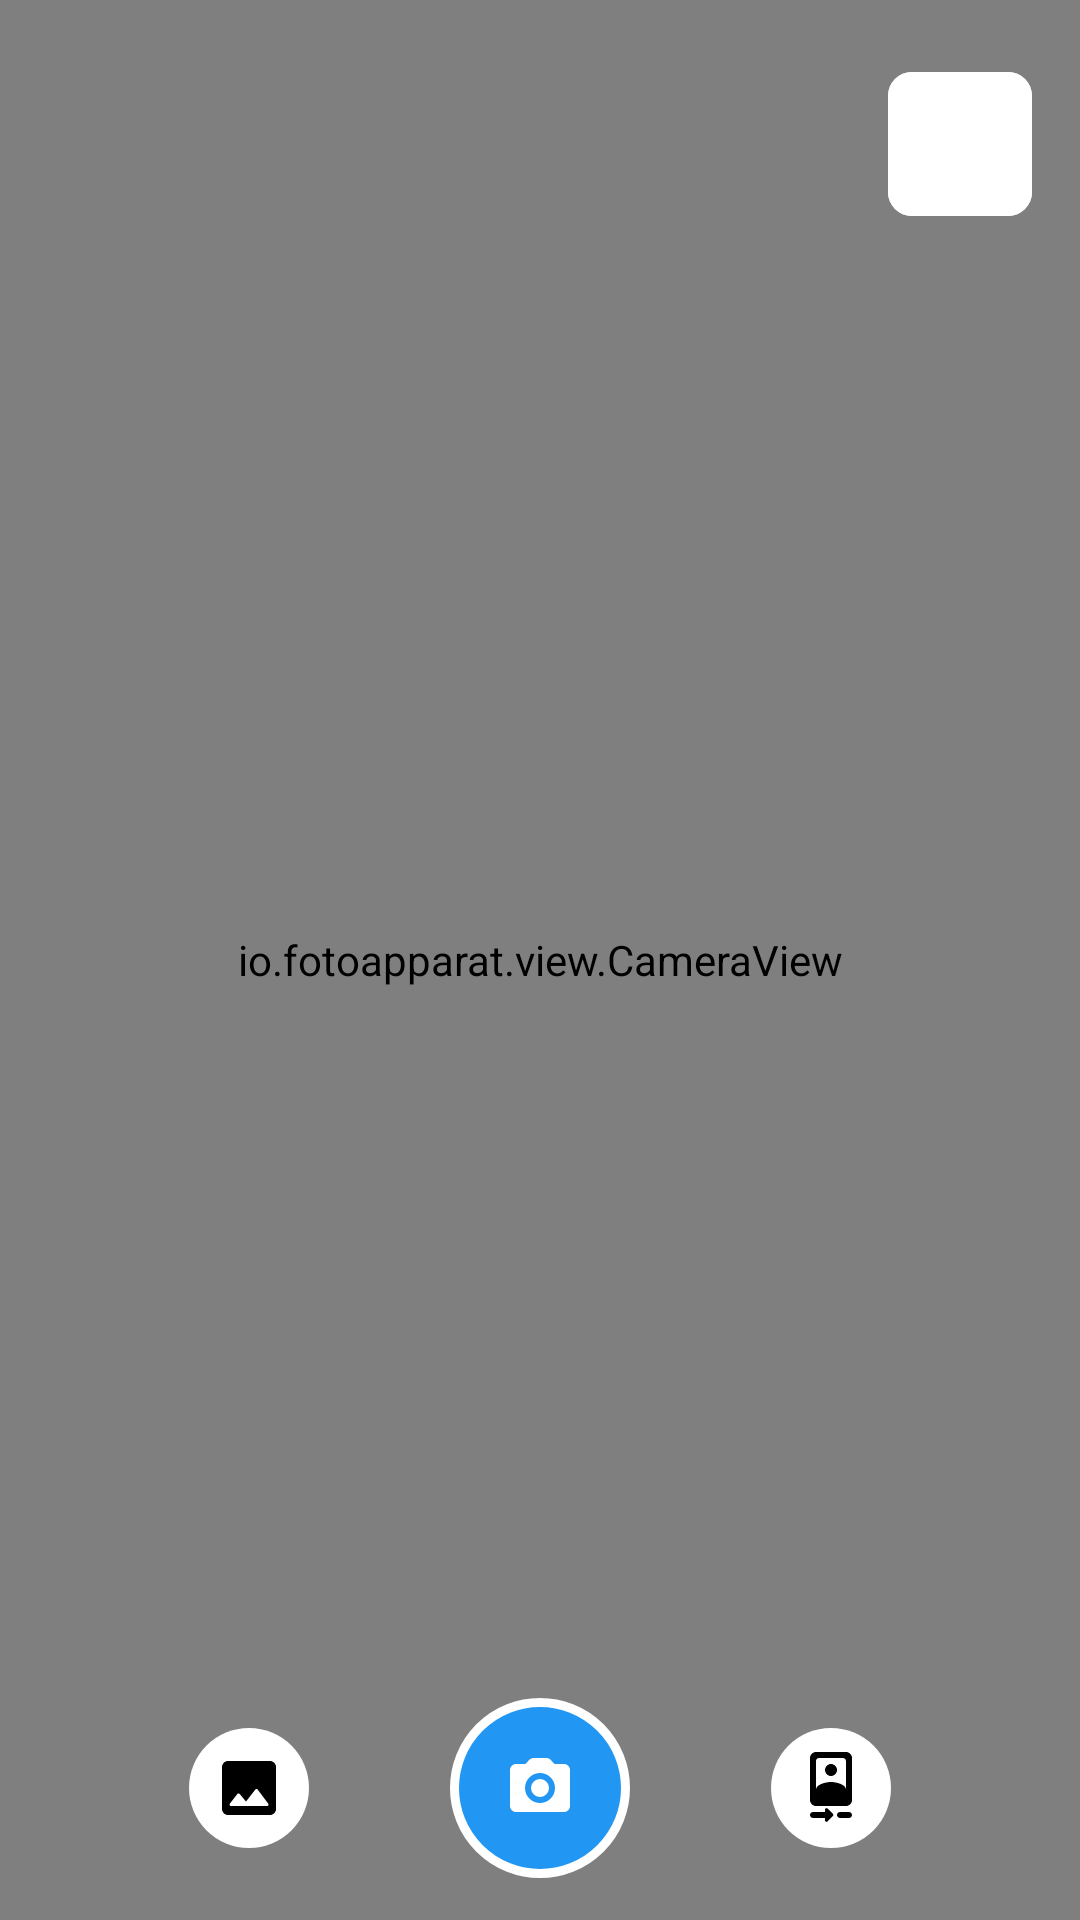

Icon bounding boxes for this 1080px x 1920px phone screenshot, format (x1, y1, x2, y2):
camera front: (771, 1728, 891, 1848)
photo: (189, 1728, 309, 1848)
photo camera: (450, 1698, 630, 1878)
